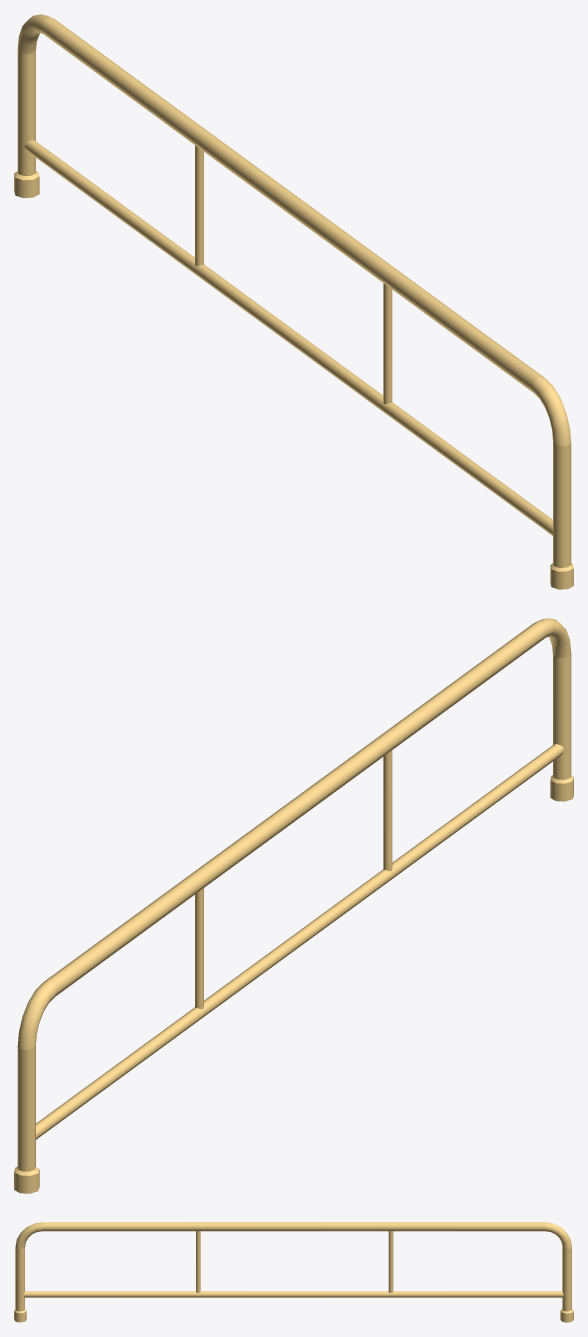
The model's file is Fence_01.FBX.
The picture shows the model from 3 angles, top to bottom: view 1: azimuth 30°, elevation 25°; view 2: azimuth 150°, elevation 25°; view 3: azimuth 270°, elevation 25°; orthographic projection. The views are drawn at different scales.
Parts seen in each view (by area): view 1: Fence_01; view 2: Fence_01; view 3: Fence_01.
Boxes of the visible parts, left/top/right/bottom form: Fence_01: left=14, top=14, right=573, bottom=589; Fence_01: left=14, top=618, right=573, bottom=1193; Fence_01: left=14, top=1222, right=573, bottom=1322.
Size of the model in its own units: 0.1393 by 1.11 by 5.76.
Materials: 1 (1 with a texture image).
